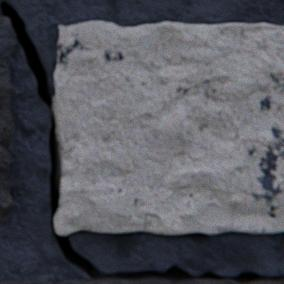brick: (53, 21, 283, 234), (0, 16, 15, 220), (0, 277, 283, 283)
crack: (0, 0, 283, 281)
